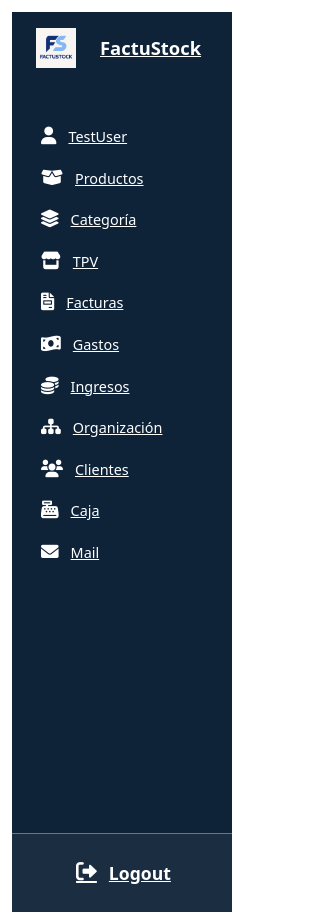
Test case: Sidebar › expande y colapsa el dropdown de Categoría
Click the link "Categoría": (89,220) [41, 210, 136, 229]
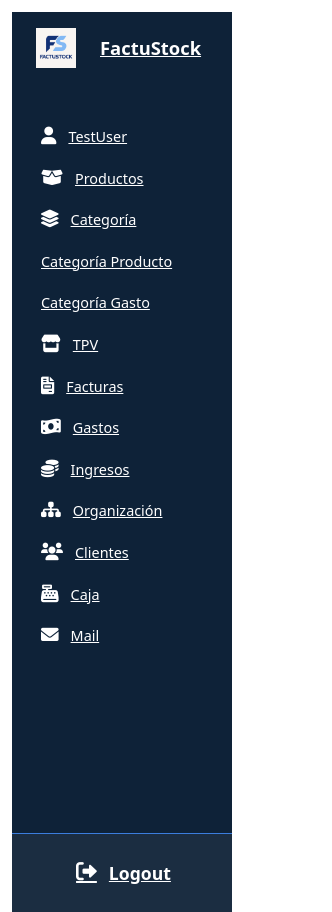
Check: the link "Categoría Producto" is shown, box [41, 252, 172, 271]
Check: the link "Categoría Gasto" is shown, box [41, 293, 150, 312]
